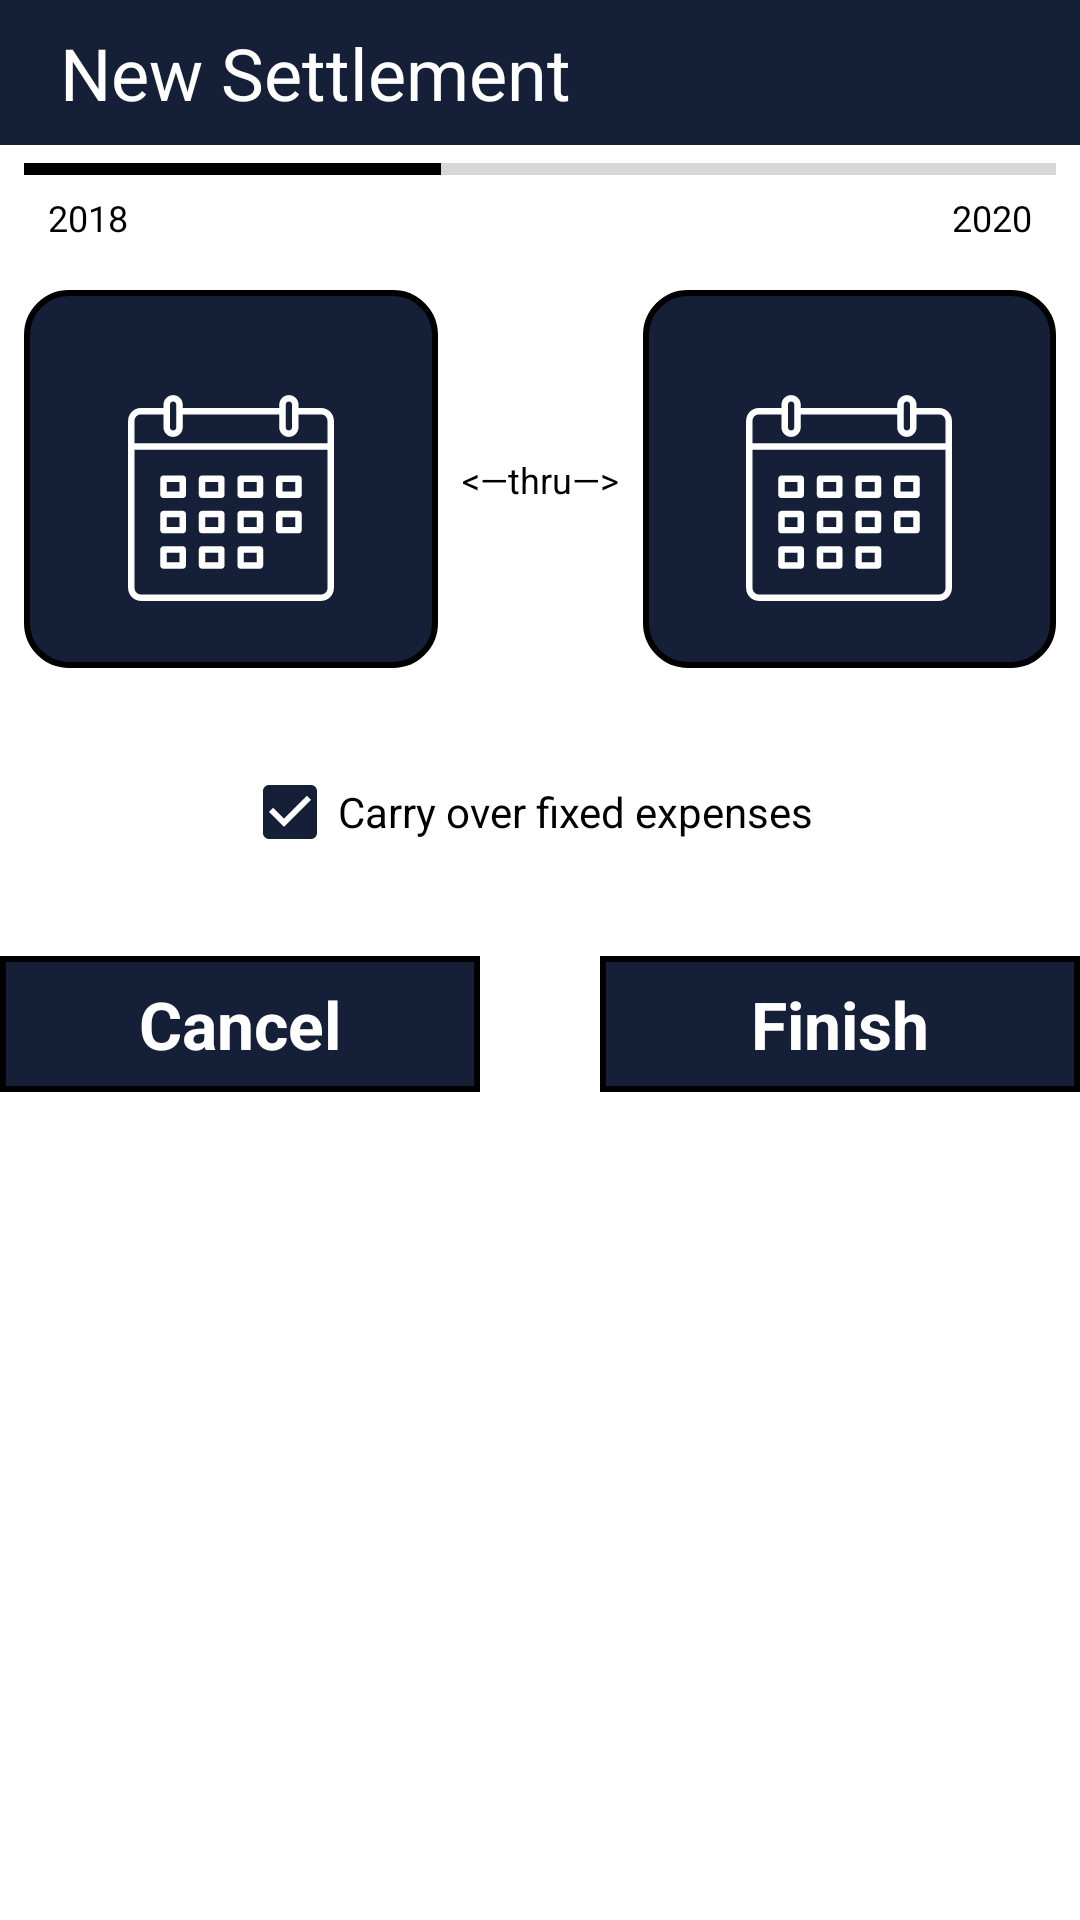

Locate icon controls on the screen. Image size 1080 × 1920, boxes as (x1,y1,x2,y2).
calendar: (128,395,334,601), (746,395,952,601)
